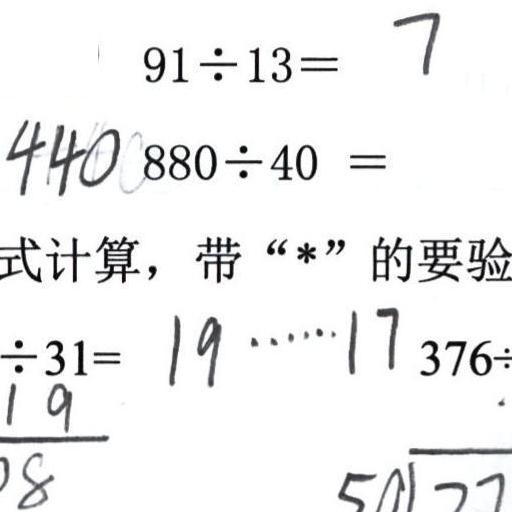ans: (159, 299, 400, 387), (1, 111, 120, 198), (388, 3, 441, 74)
